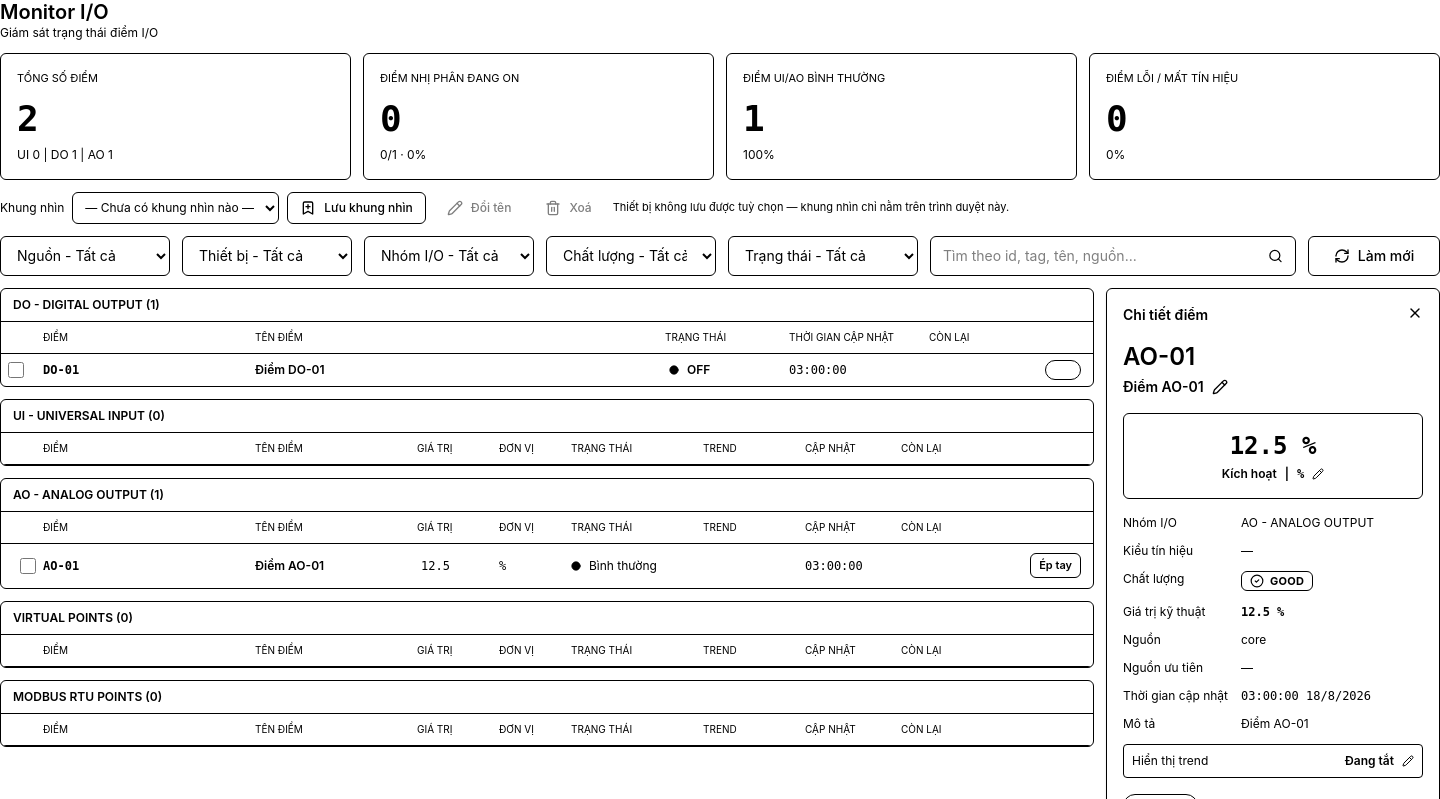
T57-1.4 — hộp thoại ép tay hàng loạt › MỘT hộp thoại liệt kê từng điểm với giá trị hiện tại → giá trị mới
Click the checkbox named "Chọn DO-01 — Điểm DO-01 để ép tay hàng loạt": (16,370) x1=8 y1=362 x2=24 y2=378
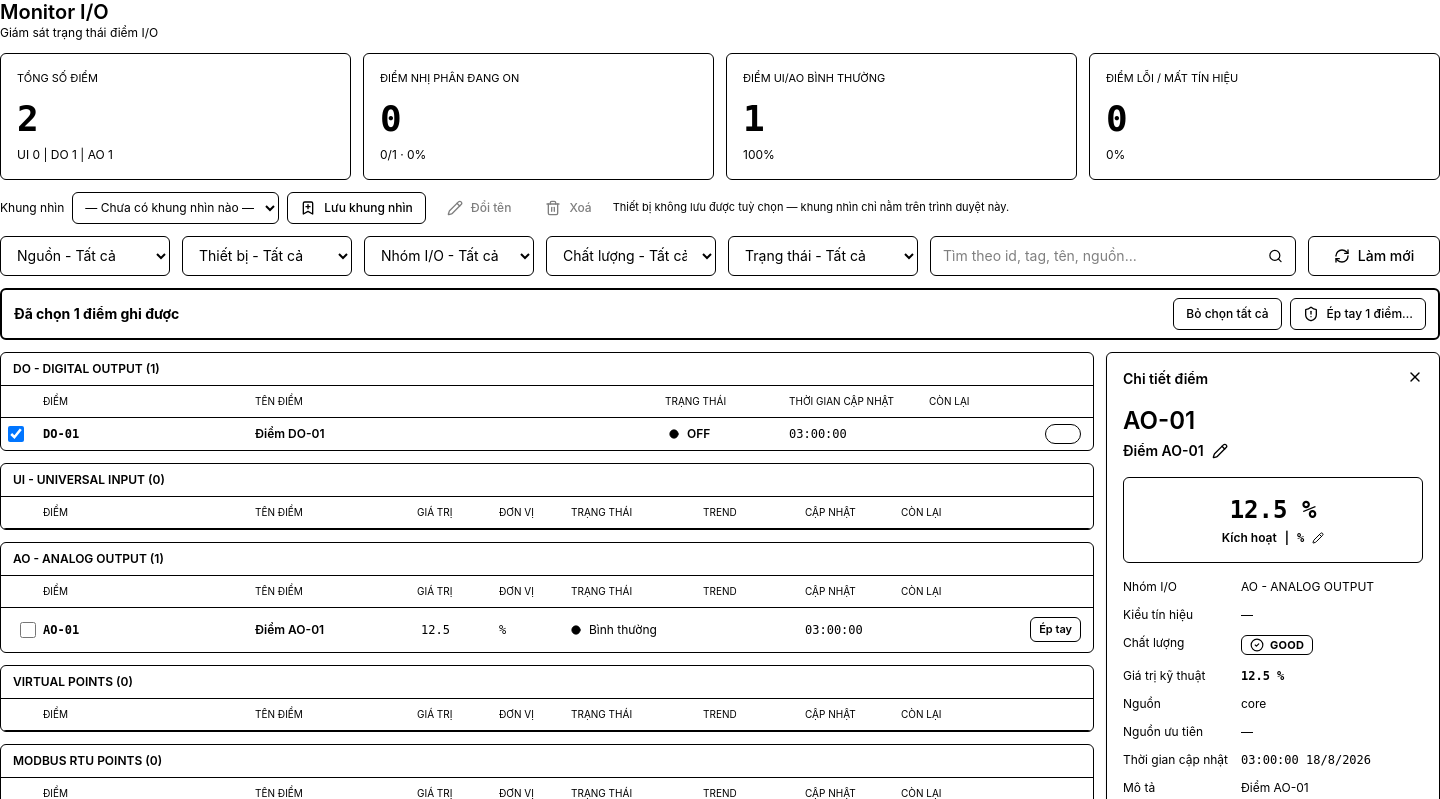
Click the checkbox named "Chọn AO-01 — Điểm AO-01 để ép tay hàng loạt": (28,630) x1=20 y1=622 x2=36 y2=638
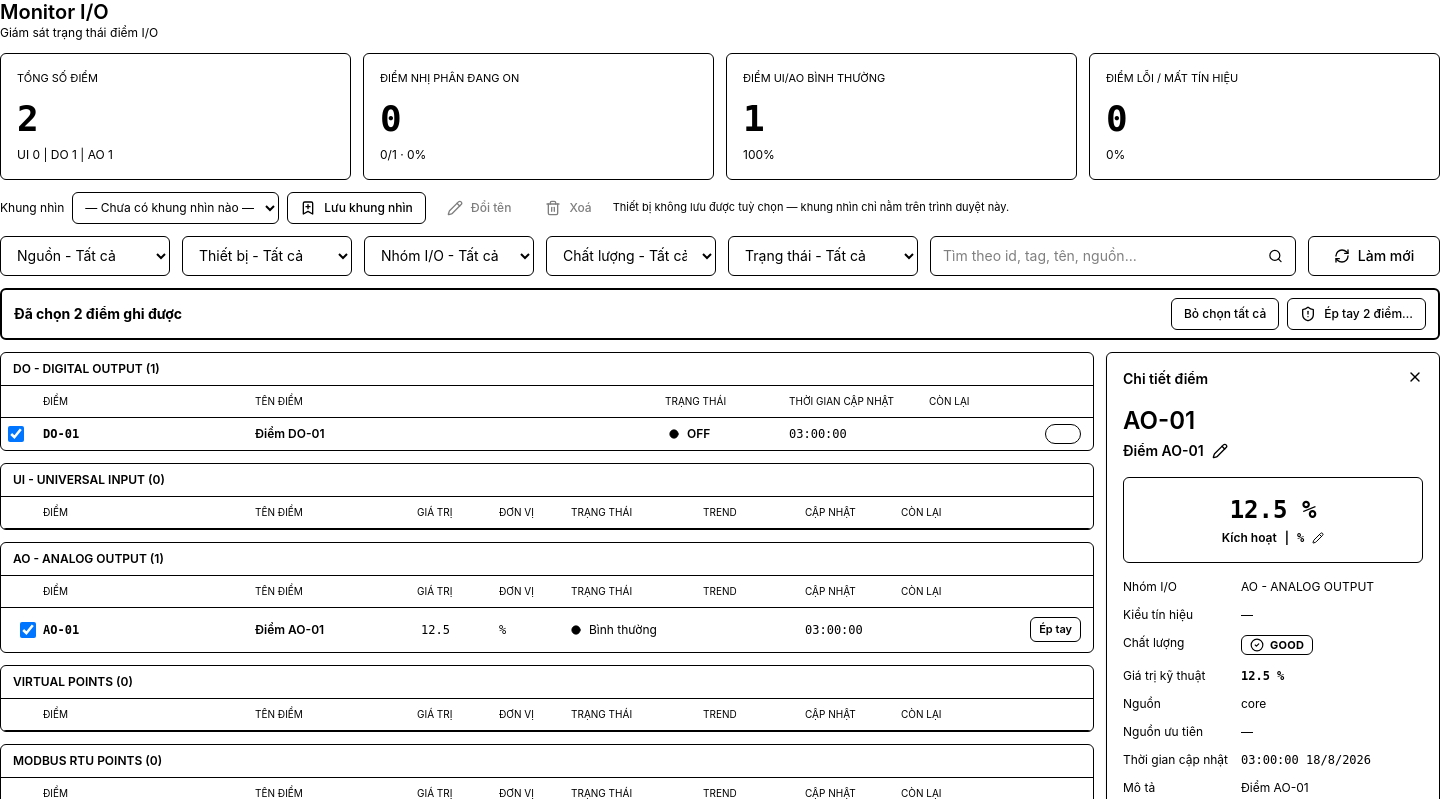
Click the button "Ép tay 2 điểm…": (1357,314) x1=1287 y1=298 x2=1426 y2=330
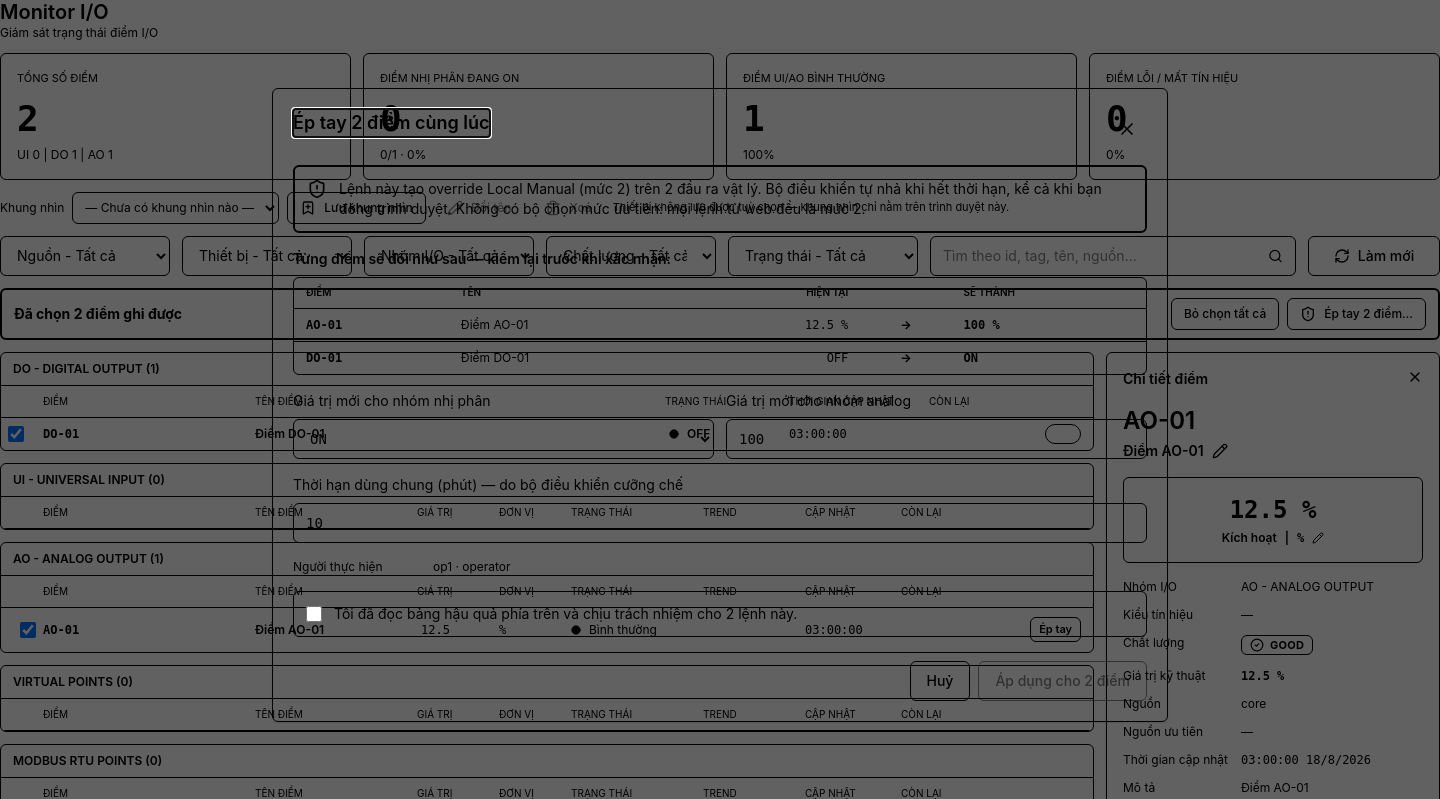
Now the number of rows is 3, box x1=294 y1=278 x2=1146 y2=308; x1=294 y1=308 x2=1146 y2=341; x1=294 y1=341 x2=1146 y2=374
Now the row "AO-01 Điểm AO-01 12.5 % → 100 %" is shown, box x1=294 y1=308 x2=1146 y2=341
Now the row "DO-01 Điểm DO-01 OFF → ON" is shown, box x1=294 y1=341 x2=1146 y2=374
